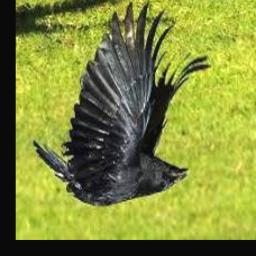Crow: (33, 1, 211, 207)
